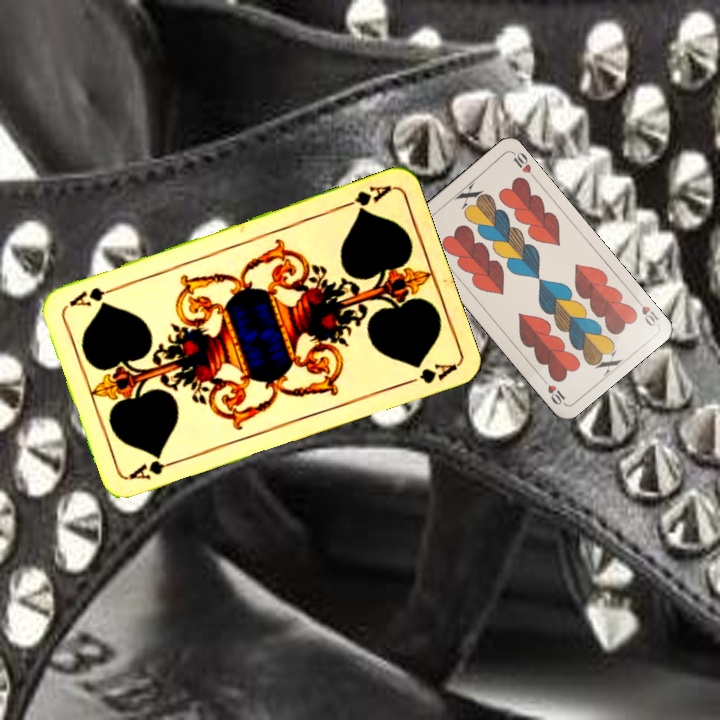GA: (337, 181, 394, 215), (124, 454, 182, 483)
H10: (631, 293, 661, 329)
